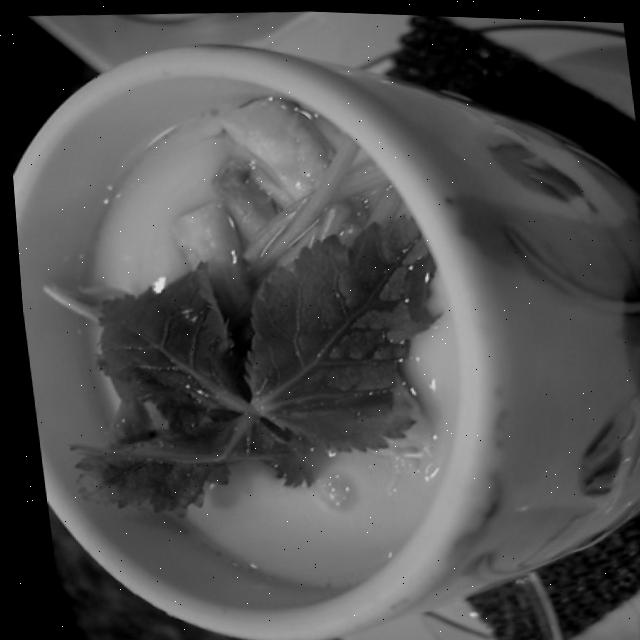鸡蛋料理: (1, 22, 640, 640)
